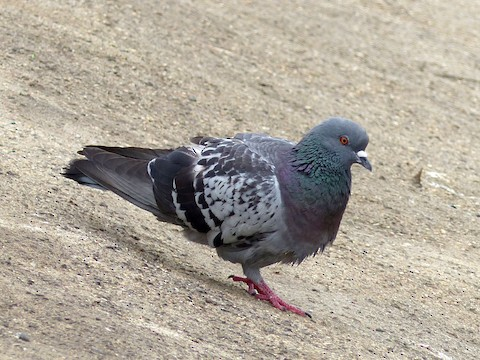pigeon: (61, 109, 375, 324)
